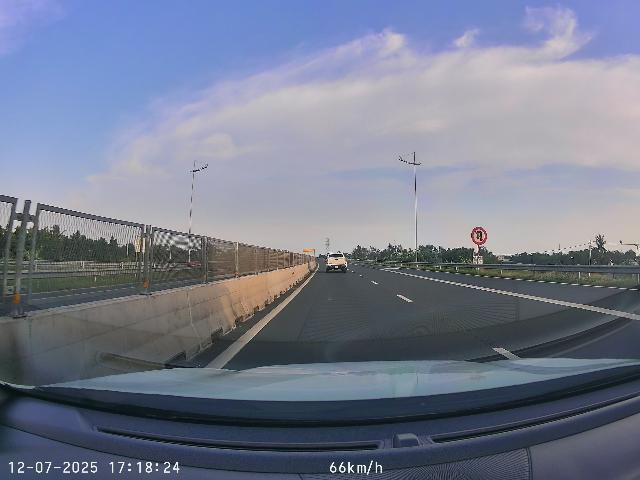124a-cam-quay-dau-xe: (471, 227, 487, 245)
